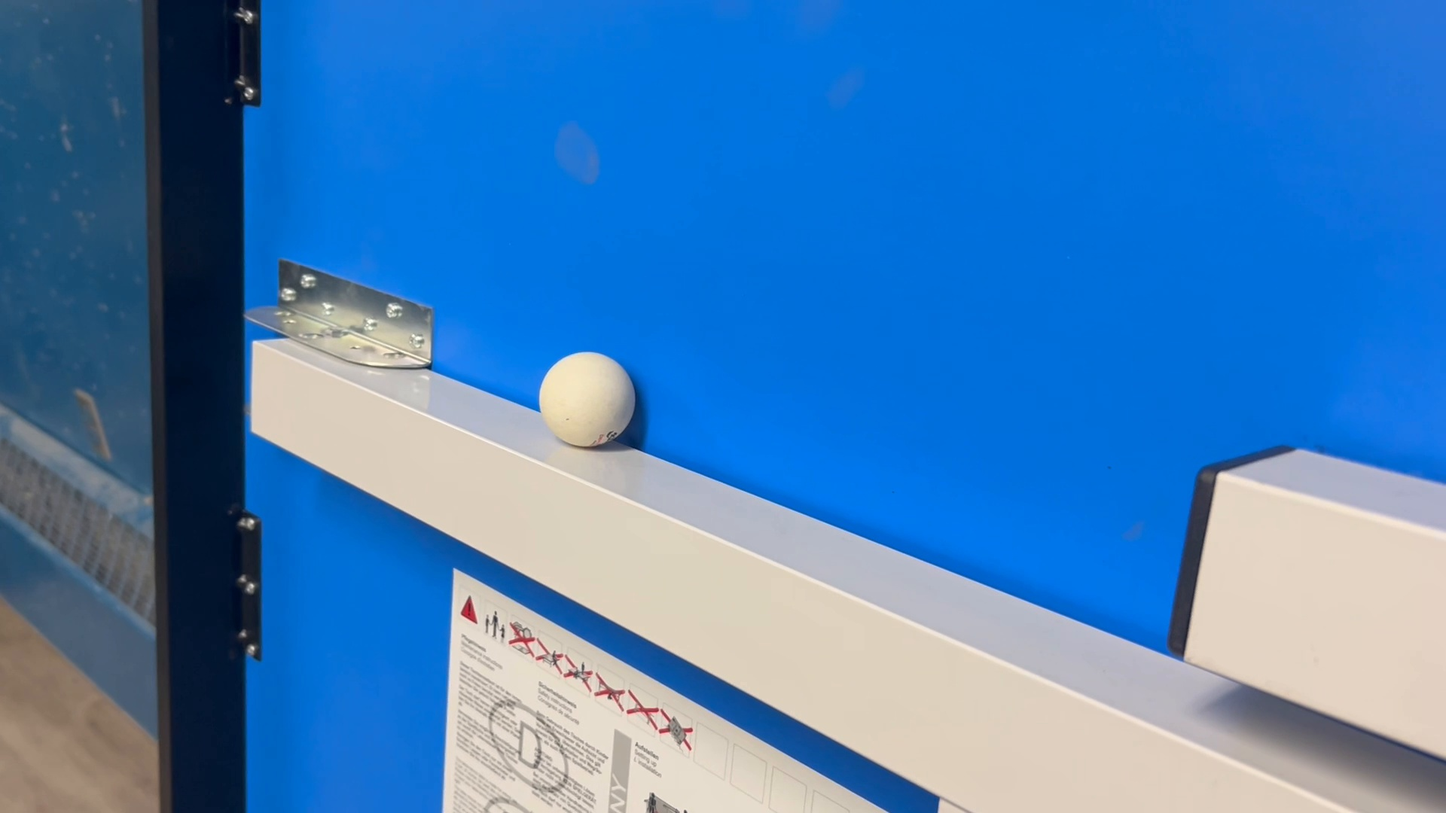Ball: (525, 355, 651, 448)
